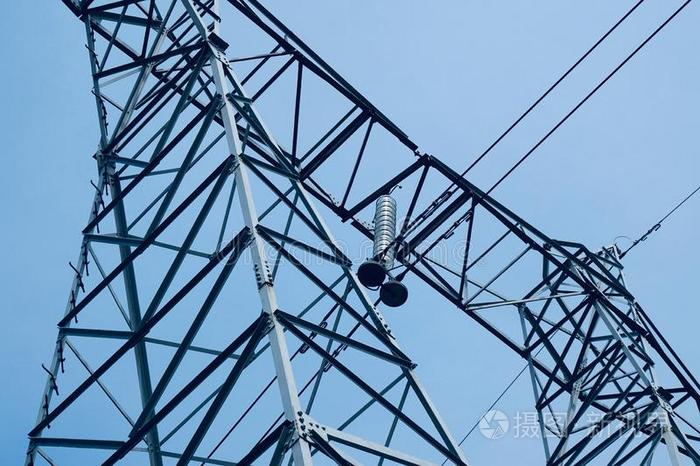insulator: (372, 195, 399, 268)
